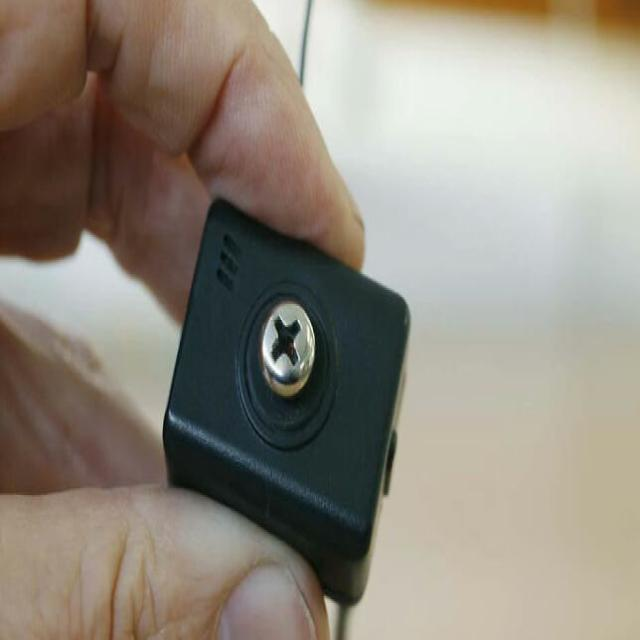hidden camera: (279, 332, 296, 361)
